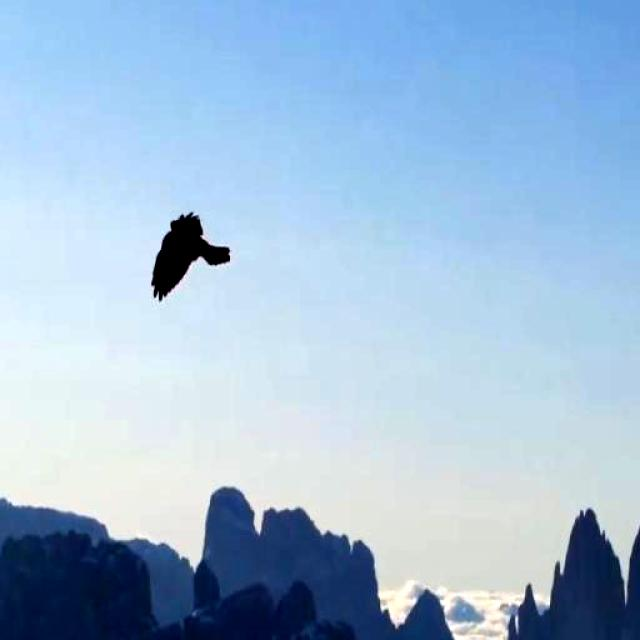airplane: (144, 199, 245, 308)
